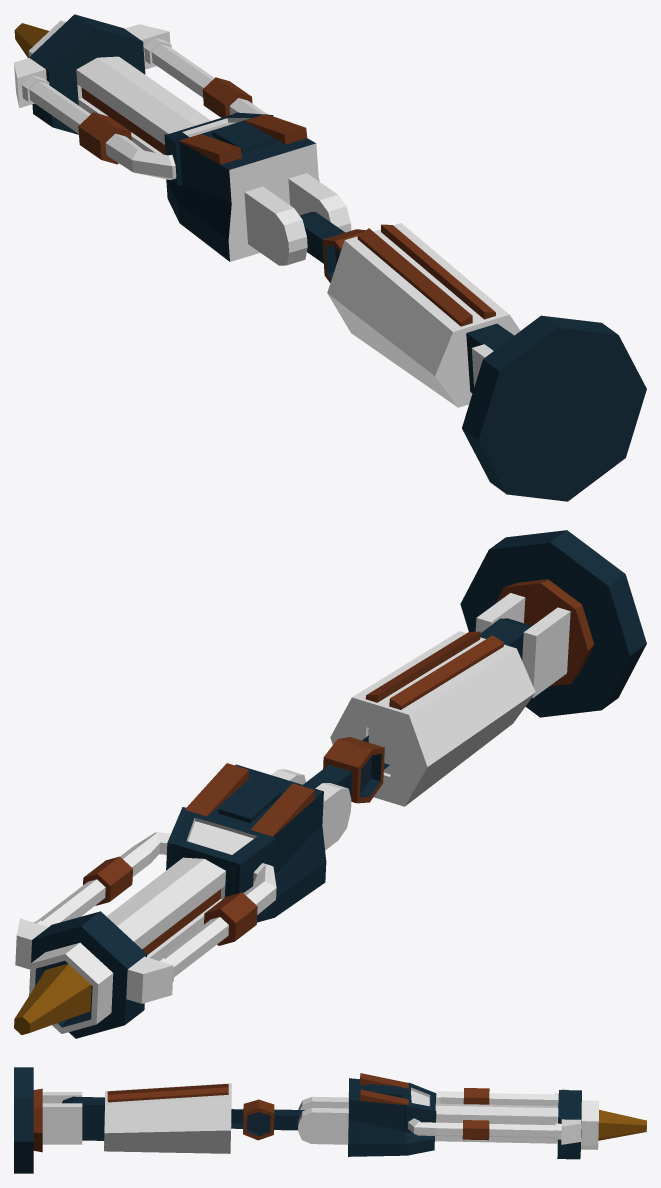
The model's file is AlternateArm.fbx.
3 renders of one model, top to bottom at view 1: azimuth 30°, elevation 25°; view 2: azimuth 150°, elevation 25°; view 3: azimuth 270°, elevation 25°, orthographic. The views are drawn at different scales.
Visible parts, largest first — view 1: FrontArm, Shoulder, BackArm; view 2: FrontArm, BackArm, Shoulder, Swivel; view 3: FrontArm, BackArm, Shoulder, Swivel.
Boxes of the visible parts, x1=… form: FrontArm: x1=14, y1=14, x2=351, y2=265; Shoulder: x1=462, y1=315, x2=646, y2=501; BackArm: x1=300, y1=212, x2=520, y2=407; FrontArm: x1=14, y1=763, x2=351, y2=1038; BackArm: x1=303, y1=618, x2=535, y2=806; Shoulder: x1=460, y1=530, x2=646, y2=717; Swivel: x1=475, y1=593, x2=570, y2=697; FrontArm: x1=298, y1=1073, x2=646, y2=1159; BackArm: x1=62, y1=1083, x2=304, y2=1153; Shoulder: x1=14, y1=1067, x2=42, y2=1173; Swivel: x1=42, y1=1092, x2=82, y2=1144.
Bounding box in the file's own units: 47.64 × 47.64 × 264.
